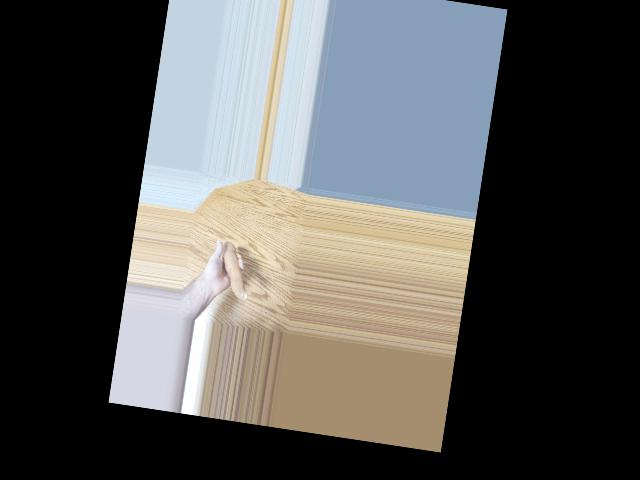sweet_potato: (217, 238, 254, 301)
